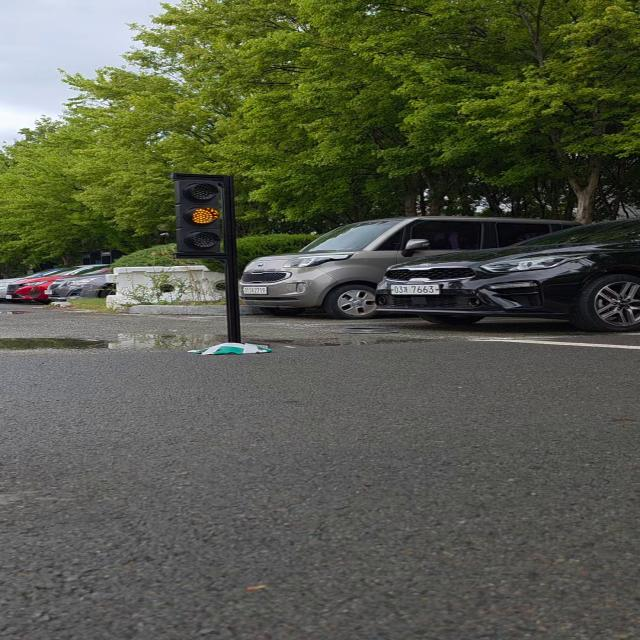yellow: (161, 171, 243, 259)
